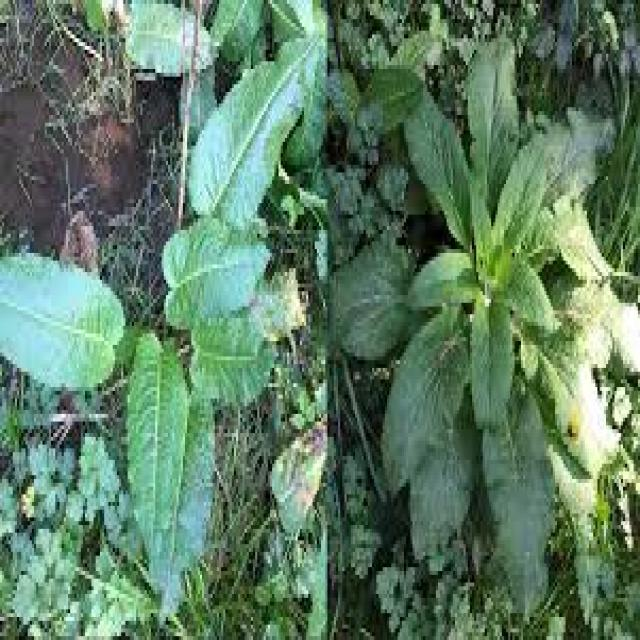organic waste: (0, 8, 313, 632), (349, 31, 623, 536)
